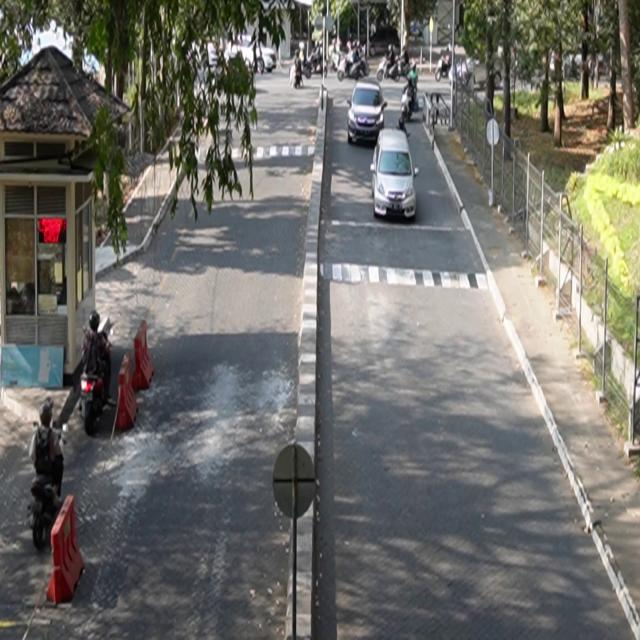car: (371, 128, 420, 221), (347, 82, 388, 146)
